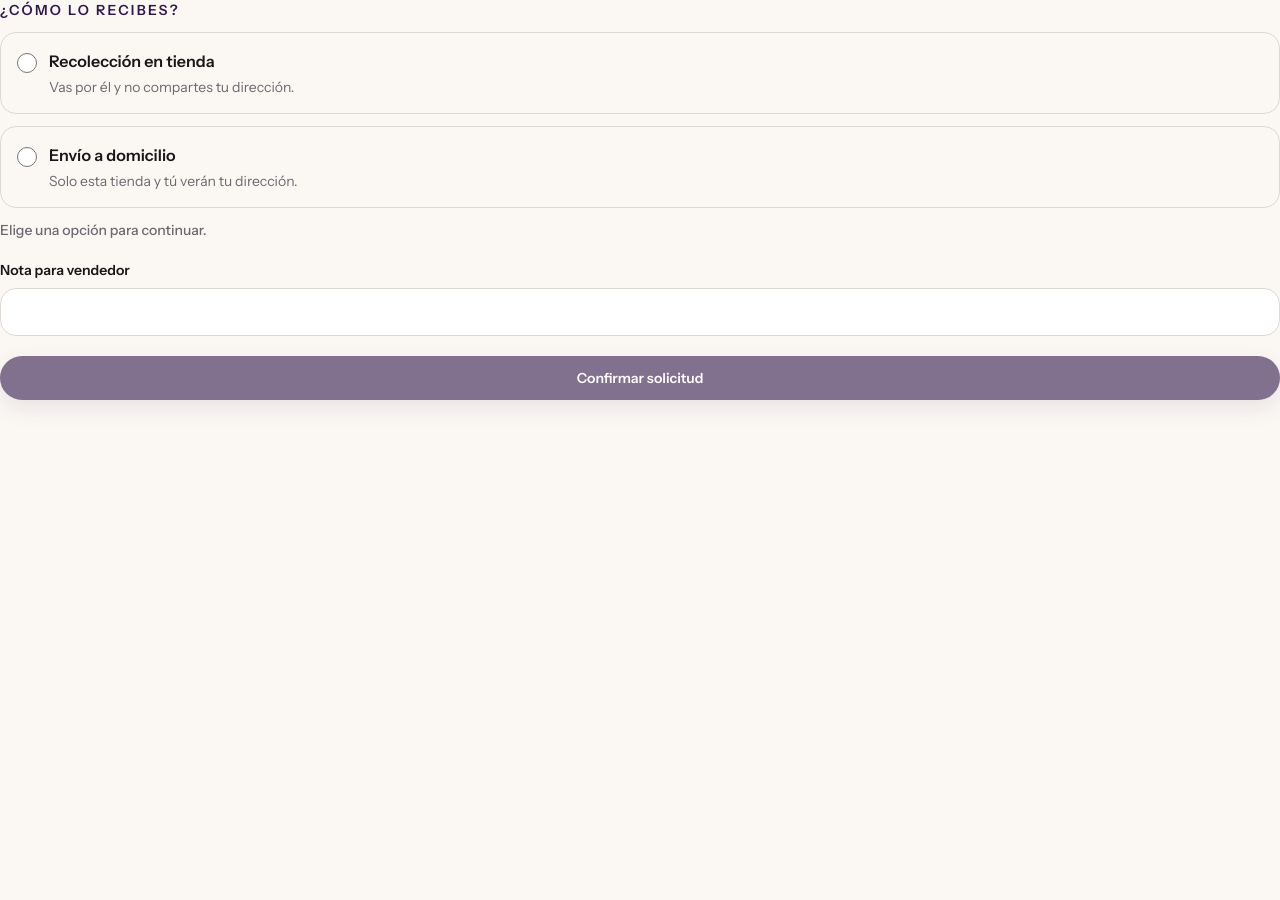
Test case: FulfillmentChoice › shows the address fields and enables the button when shipping is chosen
Click the radio button labelled "Envío a domicilio" at (27, 157), box [17,147,37,167]
(page scrolled)
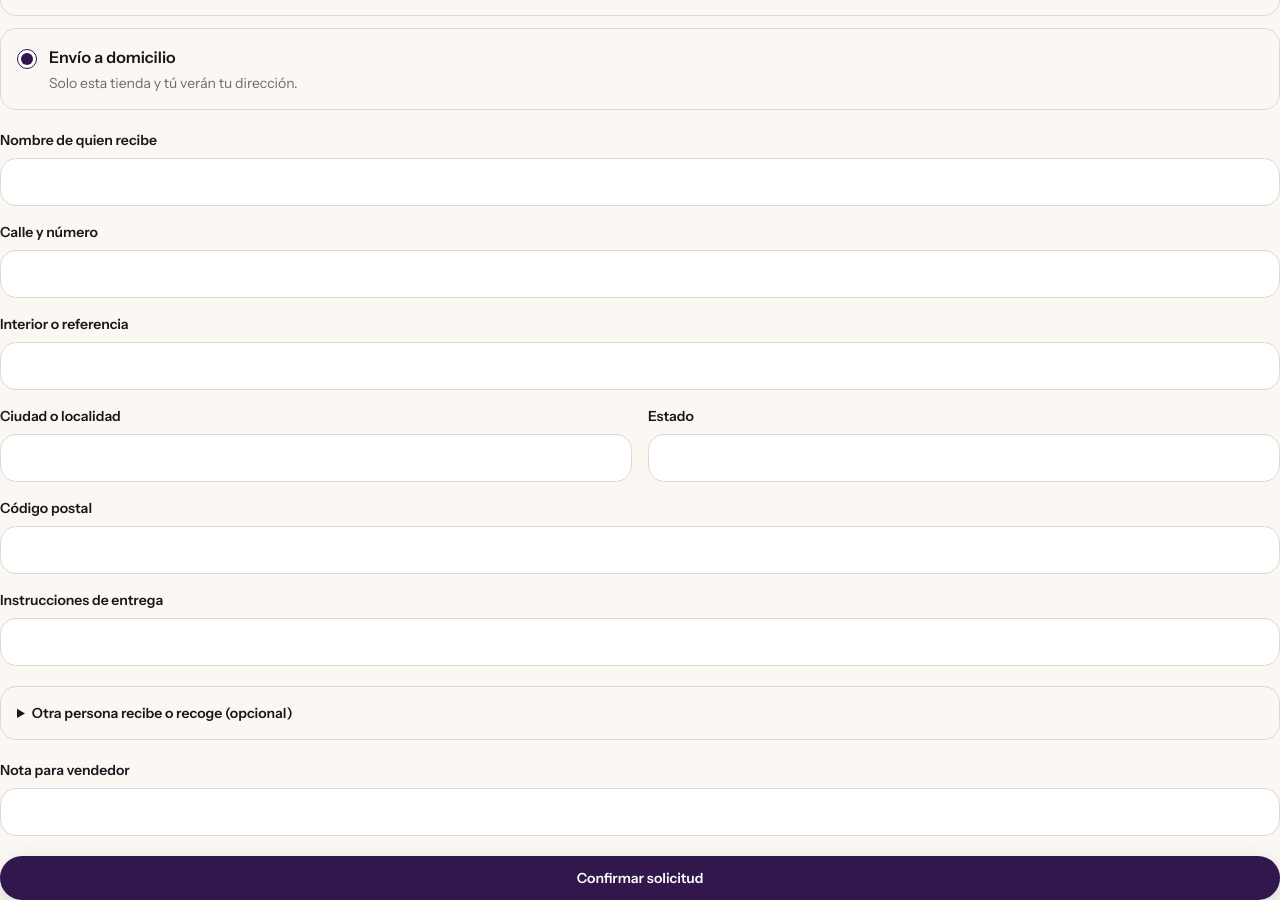
Expected: the button "Confirmar solicitud" is enabled, [0,856,1279,899]
